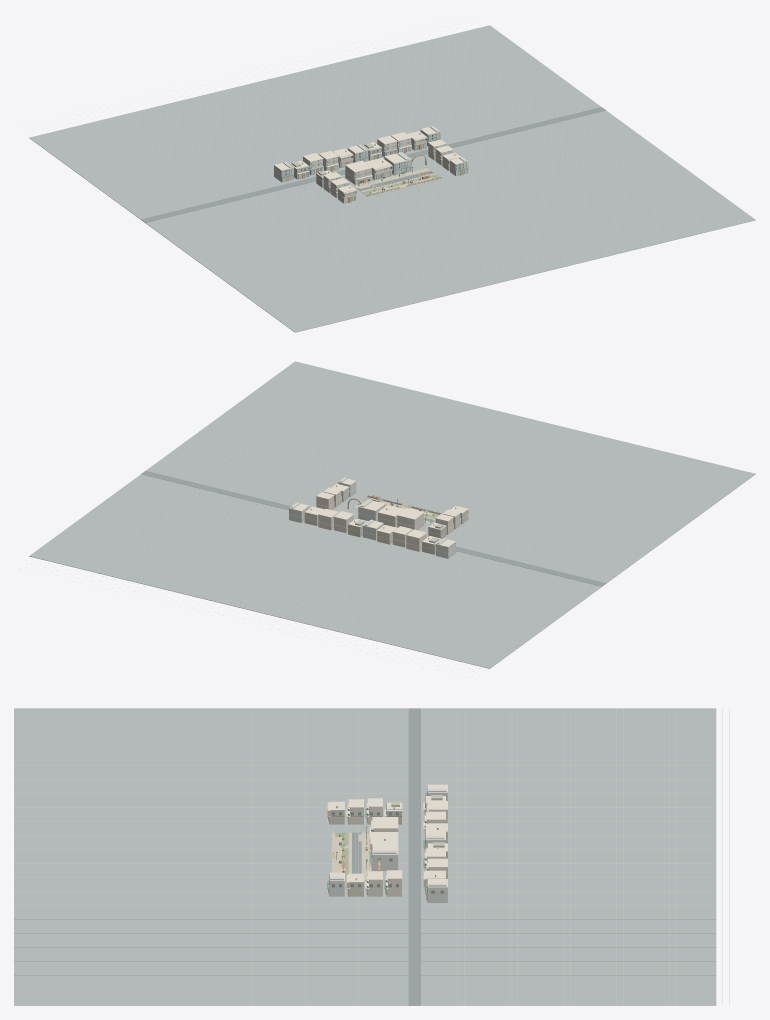
File: room.glb
3 renders of one model, top to bottom at view 1: azimuth 30°, elevation 25°; view 2: azimuth 150°, elevation 25°; view 3: azimuth 270°, elevation 25°, orthographic. The views are drawn at different scales.
Parts seen in each view (by area): view 1: continuous surrounding ground, flat roof coping, continuing side street, window glass, ground floor, ground floor.003, ground, ground floor.004, ground floor.002, paving course; view 2: continuous surrounding ground, flat roof coping, continuing side street, ground floor, ground floor.003, ground floor.002, ground floor.004, ground floor.001; view 3: continuous surrounding ground, paving course, continuing side street, flat roof coping, ground floor, ground, ground floor.003, ground floor.002, ground floor.004.
Boxes of the visible parts, left/top/right/bottom form: continuous surrounding ground: left=29, top=25, right=755, bottom=332; flat roof coping: left=274, top=126, right=467, bottom=202; continuing side street: left=141, top=107, right=605, bottom=222; window glass: left=282, top=133, right=467, bottom=202; ground floor: left=274, top=126, right=468, bottom=182; ground floor.003: left=319, top=136, right=453, bottom=198; ground: left=354, top=168, right=441, bottom=196; ground floor.004: left=338, top=138, right=449, bottom=203; ground floor.002: left=303, top=139, right=445, bottom=192; paving course: left=118, top=40, right=633, bottom=244; continuous surrounding ground: left=29, top=361, right=755, bottom=668; flat roof coping: left=289, top=478, right=468, bottom=547; continuing side street: left=141, top=470, right=606, bottom=586; ground floor: left=289, top=477, right=455, bottom=558; ground floor.003: left=318, top=491, right=460, bottom=547; ground floor.002: left=316, top=496, right=453, bottom=551; ground floor.004: left=304, top=488, right=468, bottom=544; ground floor.001: left=348, top=520, right=446, bottom=554; continuous surrounding ground: left=14, top=708, right=716, bottom=1005; paving course: left=14, top=708, right=729, bottom=1004; continuing side street: left=352, top=708, right=420, bottom=1005; flat roof coping: left=327, top=784, right=447, bottom=899; ground floor: left=329, top=789, right=447, bottom=902; ground: left=332, top=832, right=371, bottom=880; ground floor.003: left=347, top=802, right=447, bottom=896; ground floor.002: left=366, top=801, right=447, bottom=896; ground floor.004: left=328, top=810, right=447, bottom=896.
Size of the model in its own units: 170 by 5.01 by 179.
